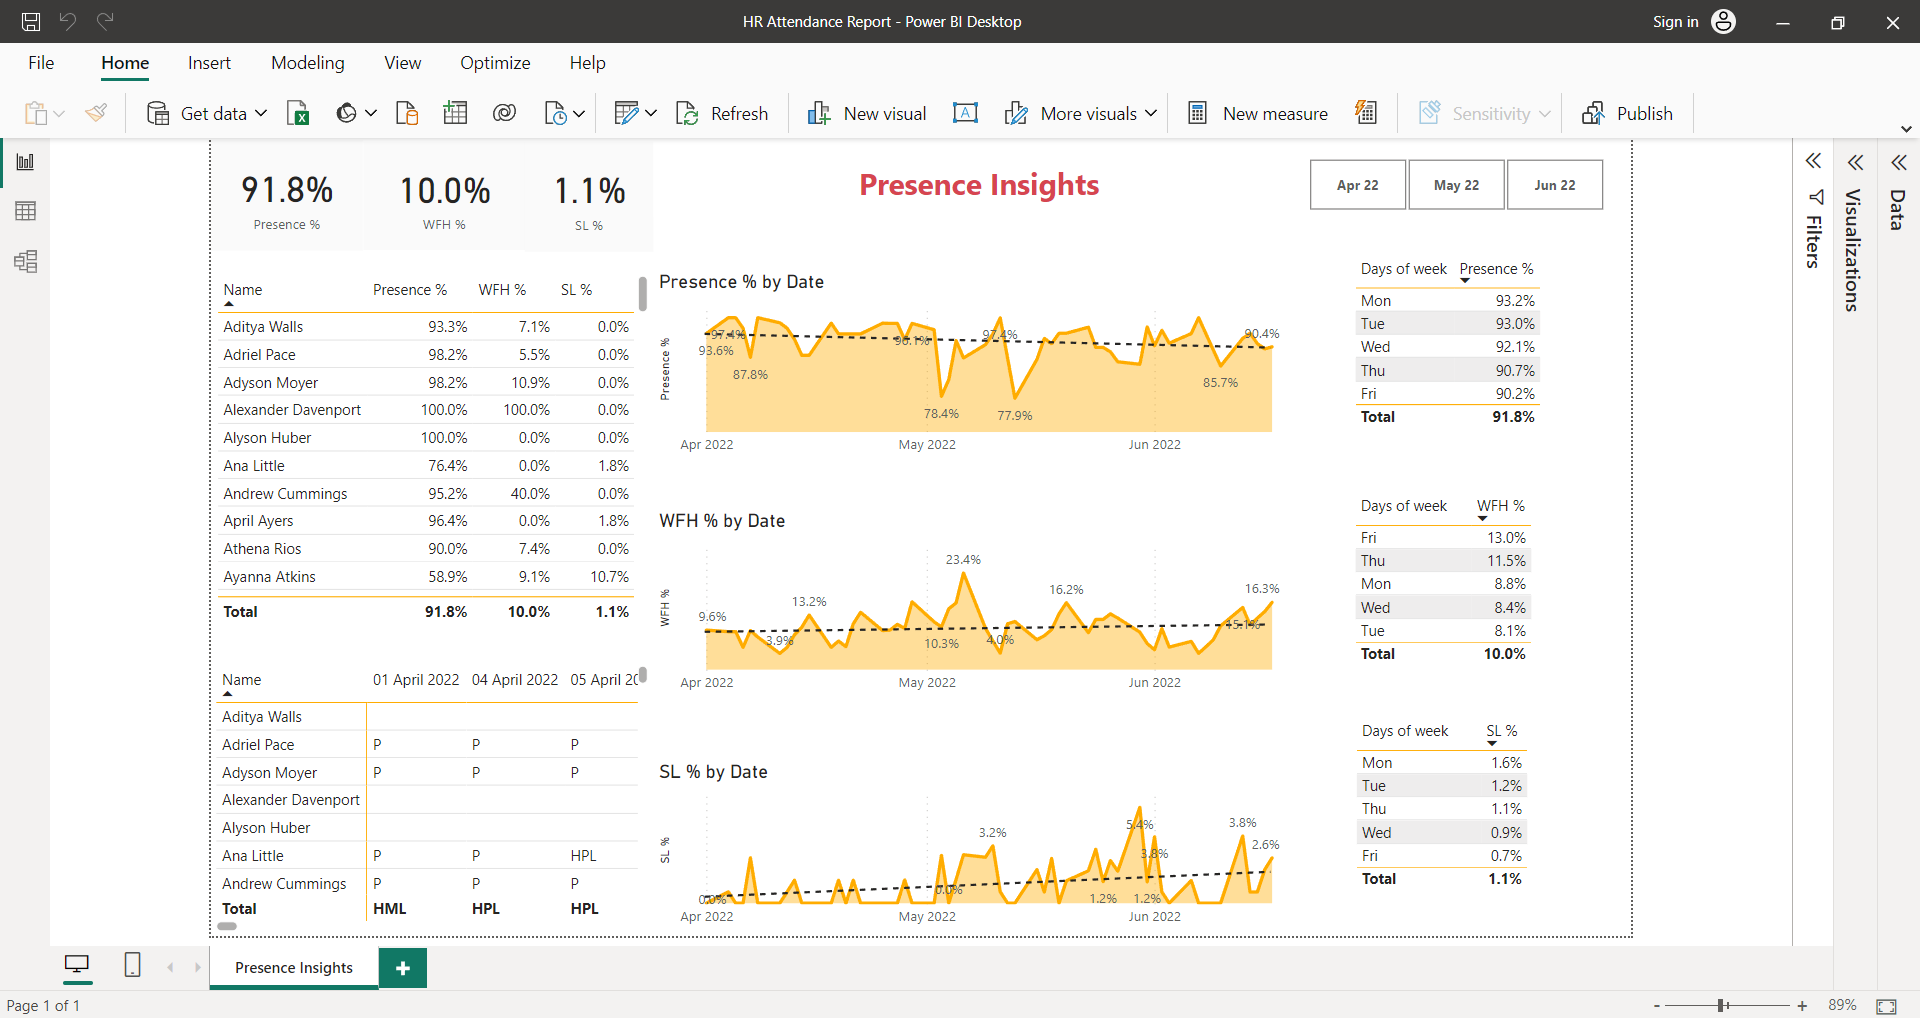

Layout of this report page (visuals, bound fields, positions):
{"tool":"powerbi","page":{"name":"Presence Insights","canvas":[1280,720],"ordinal":0},"visuals":[{"type":"card","fields":{"Values":["Final Data.Presence %"]},"box":[0,2.4,136.9,99],"z":0},{"type":"slicer","fields":{"Values":["Final Data.Month"]},"box":[964.8,12.1,314.8,59.1],"z":1000},{"type":"card","fields":{"Values":["Final Data.WFH %"]},"box":[136.9,3.7,145.5,97.8],"z":2000},{"type":"card","fields":{"Values":["Final Data.SL %"]},"box":[282.4,3.7,116.1,99],"z":3000},{"type":"tableEx","fields":{"Values":["Final Data.Name","Final Data.Presence %","Final Data.WFH %","Final Data.SL %"]},"box":[0,119.8,398.5,323.9],"z":4000},{"type":"pivotTable","fields":{"Rows":["Final Data.Name"],"Values":["Min(Final Data.Value)"],"Columns":["Final Data.Date"]},"box":[0,470.6,398.5,249.4],"z":5000},{"type":"areaChart","fields":{"Category":["Final Data.Date"],"Y":["Final Data.Presence %"]},"box":[398.5,119.8,586.8,174.8],"z":6000},{"type":"areaChart","fields":{"Category":["Final Data.Date"],"Y":["Final Data.SL %"]},"box":[398.5,561.1,586.8,158.9],"z":7000},{"type":"areaChart","fields":{"Category":["Final Data.Date"],"Y":["Final Data.WFH %"]},"box":[398.5,334.9,586.8,174.8],"z":8000},{"type":"tableEx","fields":{"Values":["Final Data.Days of week","Final Data.Presence %"]},"box":[1025.6,101.5,201.7,174.8],"z":9000},{"type":"tableEx","fields":{"Values":["Final Data.Days of week","Final Data.WFH %"]},"box":[1025.6,315.4,201.7,174.8],"z":10000},{"type":"tableEx","fields":{"Values":["Final Data.Days of week","Final Data.SL %"]},"box":[1026.8,518.3,201.7,174.8],"z":11000},{"type":"textbox","box":[398.5,0,586.8,70.9],"z":12000}]}

Visuals, with their boxes on the page's 1280x720 design canvas (x1, y1, x2, y2). These are canvas units, not pixel positions in the 1920x1018 screenshot, which may show the page scaled, cropped or inside an application window:
card - Final Data.Presence %: bbox(0, 2, 137, 101)
slicer - Final Data.Month: bbox(965, 12, 1280, 71)
card - Final Data.WFH %: bbox(137, 4, 282, 102)
card - Final Data.SL %: bbox(282, 4, 398, 103)
tableEx - Final Data.Name x Final Data.Presence %: bbox(0, 120, 398, 444)
pivotTable - Final Data.Name x Min(Final Data.Value): bbox(0, 471, 398, 720)
areaChart - Final Data.Date x Final Data.Presence %: bbox(398, 120, 985, 295)
areaChart - Final Data.Date x Final Data.SL %: bbox(398, 561, 985, 720)
areaChart - Final Data.Date x Final Data.WFH %: bbox(398, 335, 985, 510)
tableEx - Final Data.Days of week x Final Data.Presence %: bbox(1026, 102, 1227, 276)
tableEx - Final Data.Days of week x Final Data.WFH %: bbox(1026, 315, 1227, 490)
tableEx - Final Data.Days of week x Final Data.SL %: bbox(1027, 518, 1228, 693)
textbox: bbox(398, 0, 985, 71)
